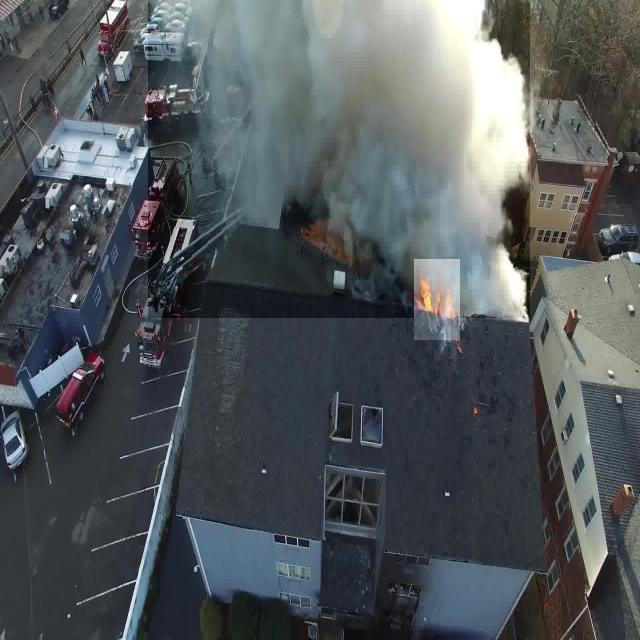Fire: (414, 259, 460, 340)
Smoke: (148, 0, 530, 318)
